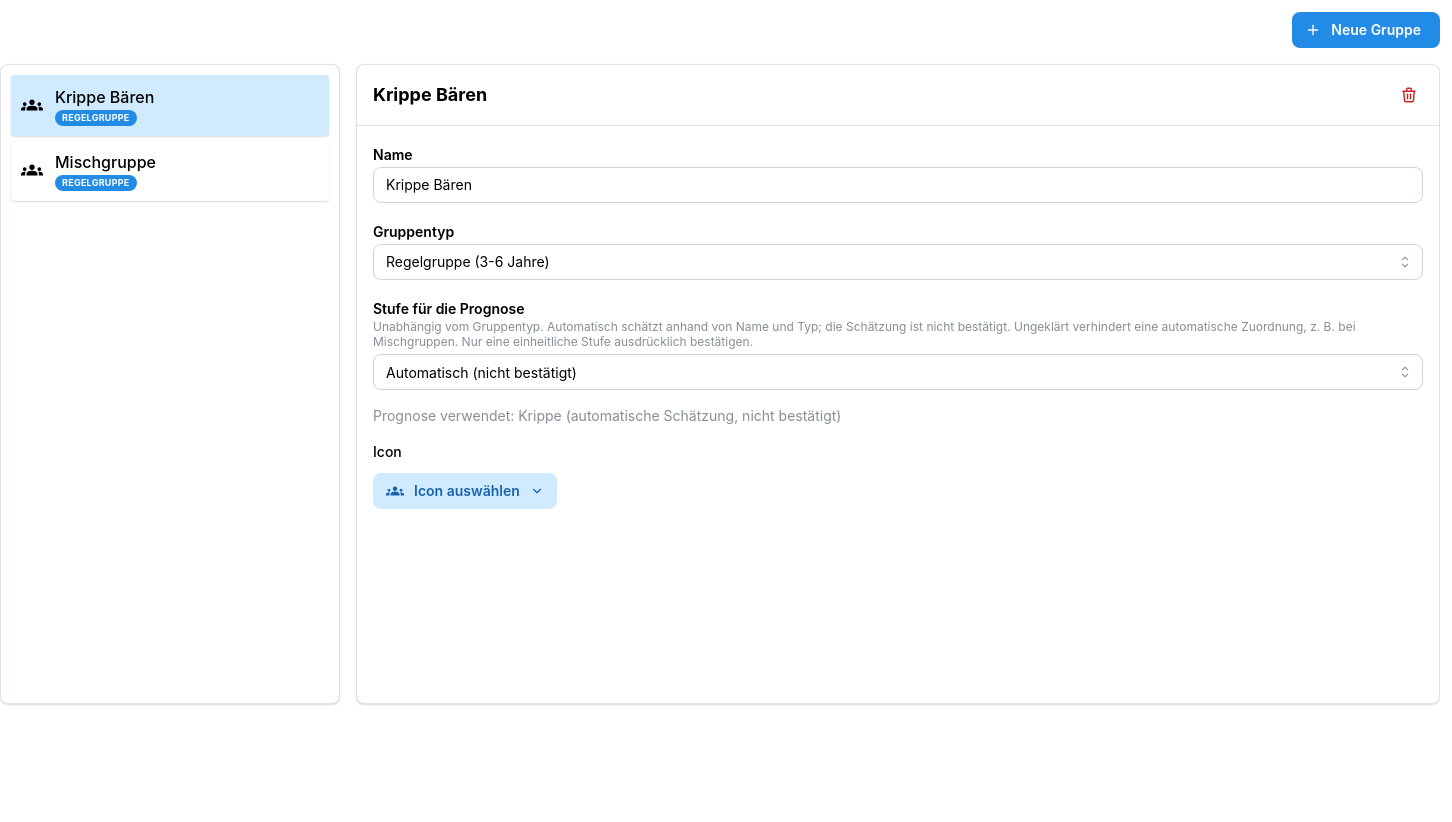
Test: forecast stage group editor › shows the unconfirmed estimate, saves a separate stage, and restores it on reload
Later steps or results of the test are not shown.
Expected: the text "Prognose verwendet: Krippe (automatische Schätzung, nicht bestätigt)" is shown, x1=373 y1=407 x2=842 y2=424
Click the dropdown labelled "Stufe für die Prognose".
click(898, 372)  # box x1=373 y1=354 x2=1423 y2=390
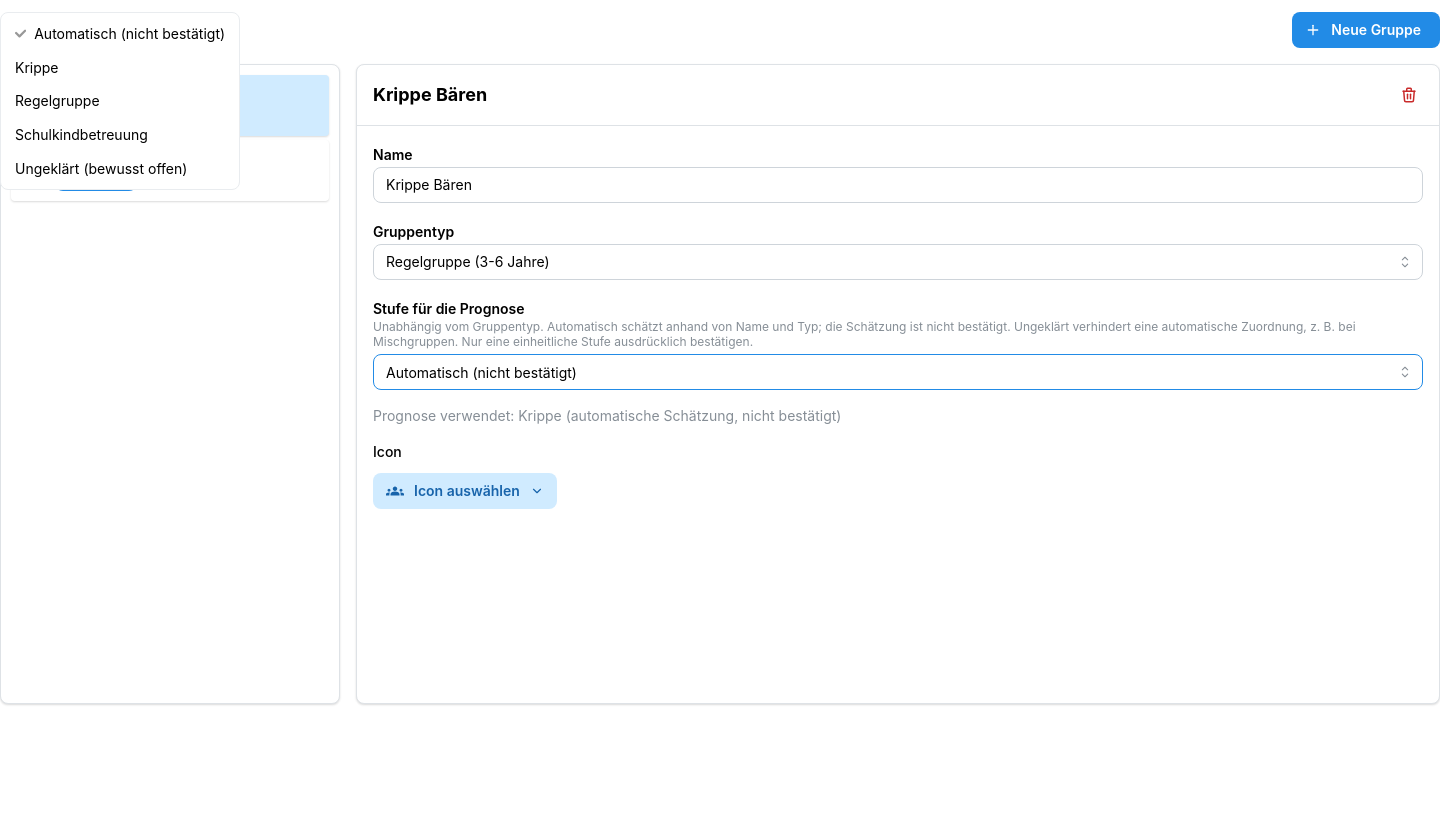
Click the option "Schulkindbetreuung".
click(81, 135)  # box x1=15 y1=126 x2=148 y2=143
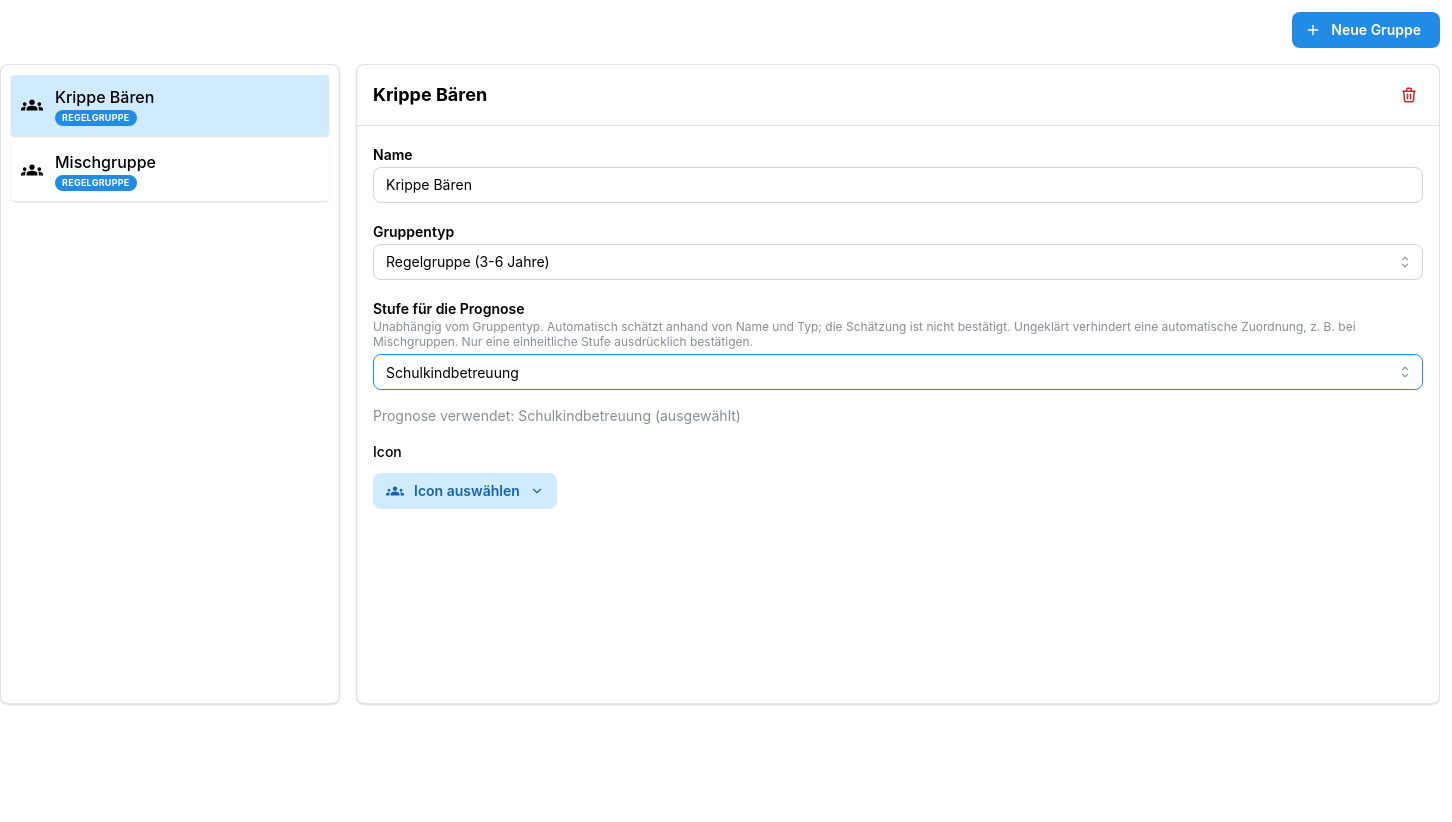
Result: the text "Prognose verwendet: Schulkindbetreuung (ausgewählt)" is shown at x1=373 y1=407 x2=741 y2=424
